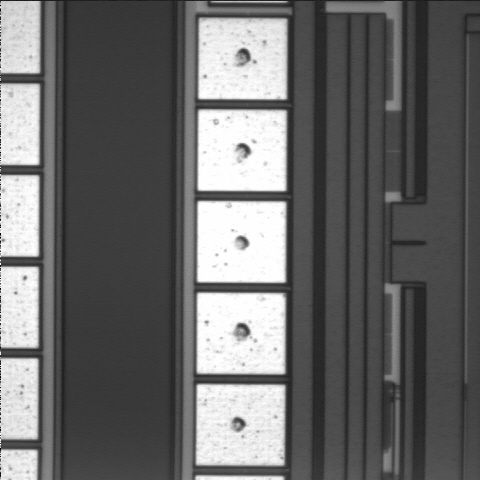pad: (197, 201, 286, 283), (198, 18, 287, 99), (196, 384, 285, 465), (198, 110, 286, 191), (197, 293, 285, 374)
